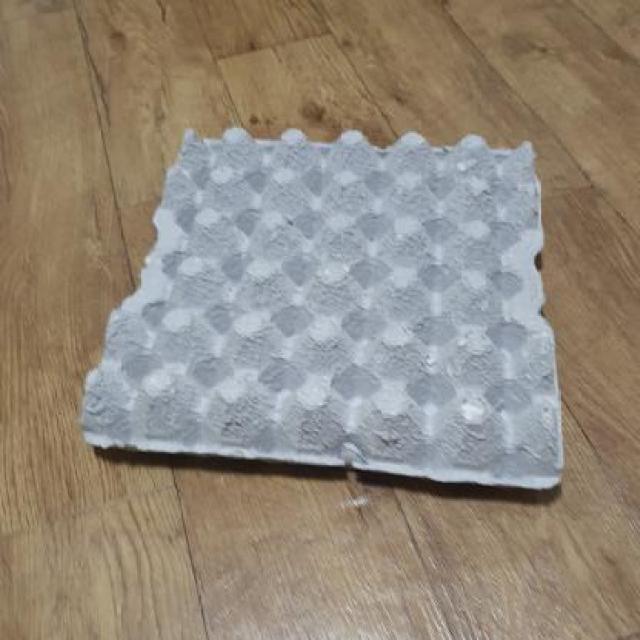box: (77, 107, 586, 572)
